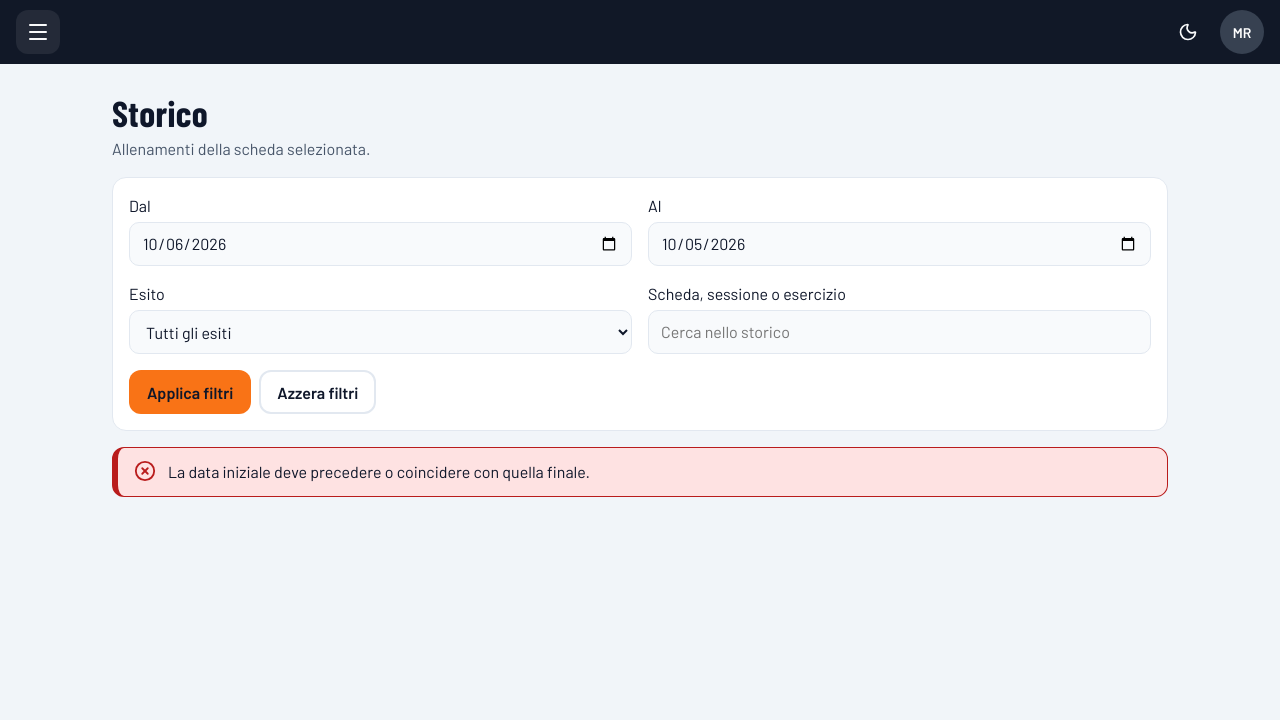
it: history filters in URL › rejects malformed URL filters without issuing a history request: from=2026-10-06&to=2026-10-05
Check: the message "La data iniziale deve precedere o coincidere con quella finale." is shown, box [112, 447, 1168, 497]
Click the button "Azzera filtri".
click(318, 392)  # box [259, 370, 376, 414]
(page scrolled)
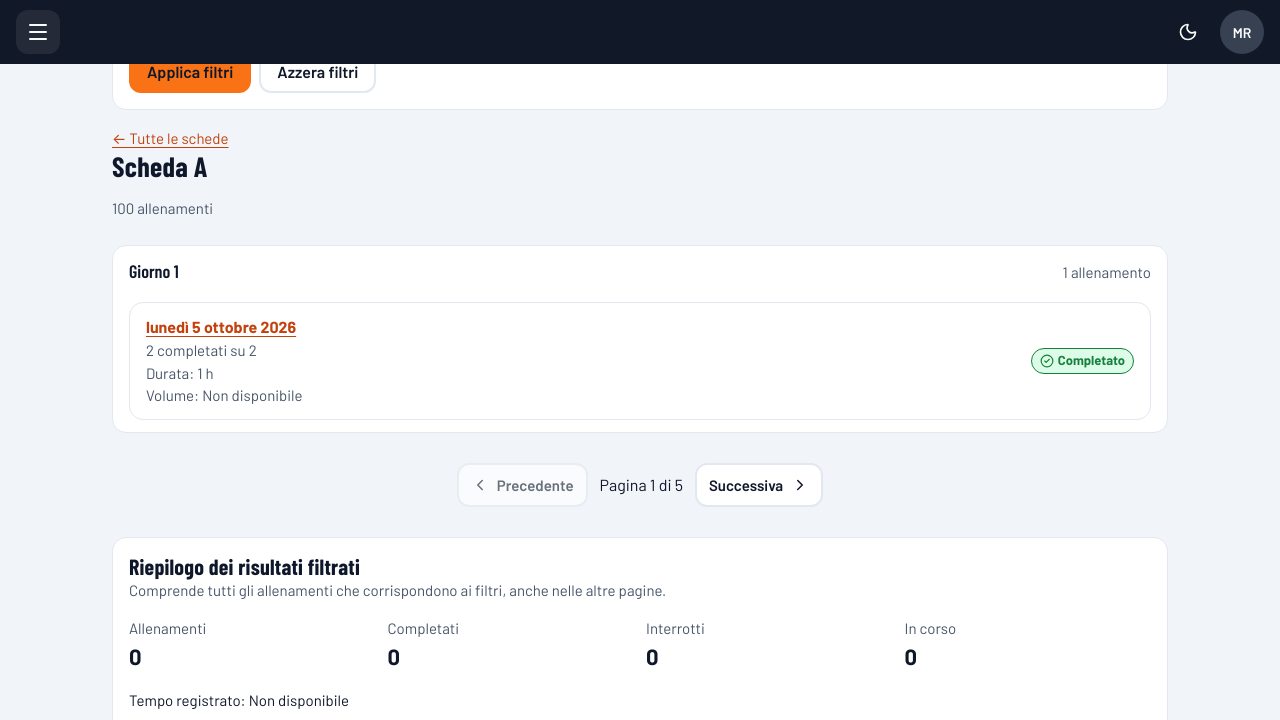
Check: the list named "Allenamenti" is shown, box [129, 302, 1151, 420]
